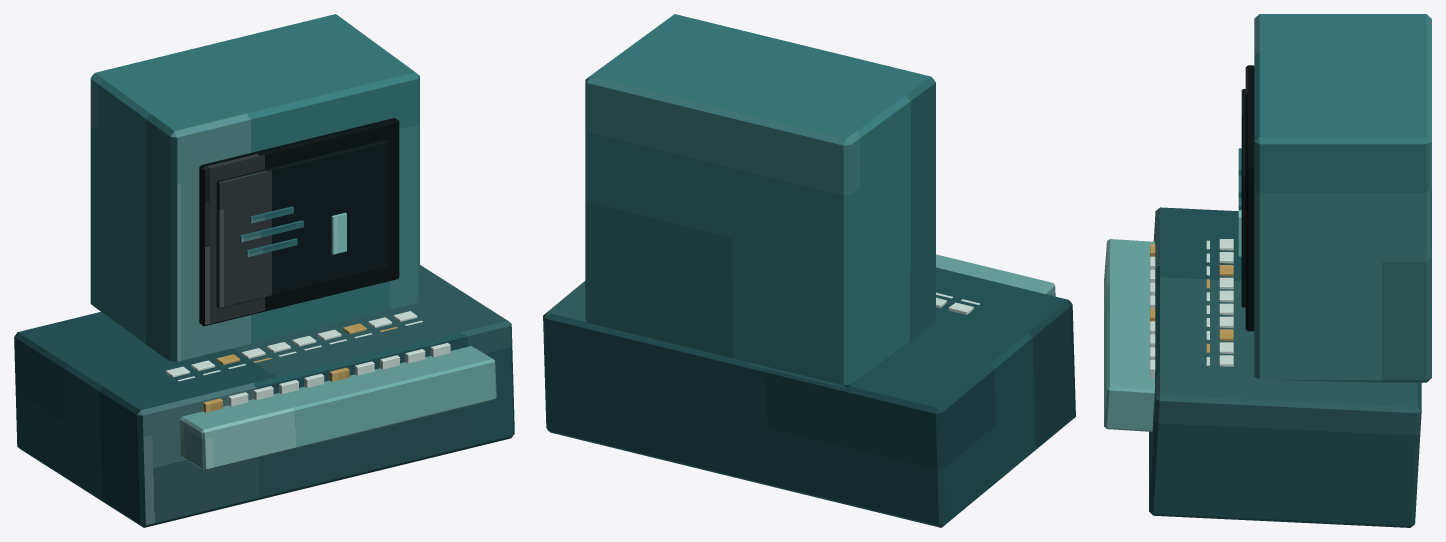
File: retro_computer_terminal_teal.glb
3 views of the same model, side by side, from view 1: azimuth 30°, elevation 25°; view 2: azimuth 150°, elevation 25°; view 3: azimuth 270°, elevation 25° (orthographic). The views are drawn at different scales.
Parts seen in each view (by area): view 1: MonitorShell, TerminalWedge, MonitorGlow, KeyboardBody, MonitorFace, ScreenGlyph_4; view 2: MonitorShell, TerminalWedge, KeyboardBody; view 3: MonitorShell, TerminalWedge, KeyboardBody, MonitorFace, MonitorGlow.
Part boxes in pixels (x1,y1,x2,y2): MonitorShell: (90, 14, 419, 361); TerminalWedge: (14, 265, 514, 527); MonitorGlow: (216, 140, 387, 308); KeyboardBody: (180, 346, 496, 470); MonitorFace: (199, 118, 399, 326); ScreenGlyph_4: (331, 212, 346, 254); MonitorShell: (585, 14, 935, 388); TerminalWedge: (543, 267, 1075, 527); KeyboardBody: (936, 254, 1055, 296); MonitorShell: (1254, 14, 1431, 382); TerminalWedge: (1149, 207, 1421, 527); KeyboardBody: (1104, 239, 1154, 431); MonitorFace: (1245, 65, 1254, 331); MonitorGlow: (1241, 89, 1245, 307).
Bounding box in the file's own units: 1.02 × 0.914 × 0.7379.
1 material, 1 textured.
